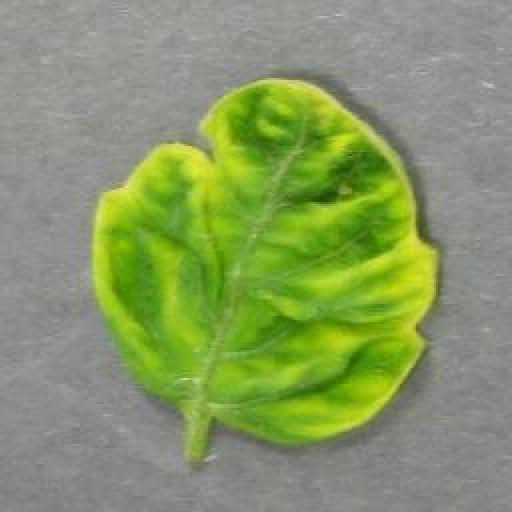Yellow Leaf Curl Virus: (90, 77, 438, 447)
